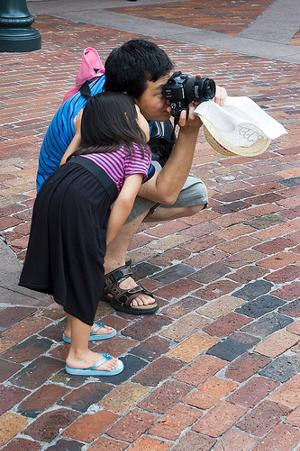person: (36, 38, 228, 314)
